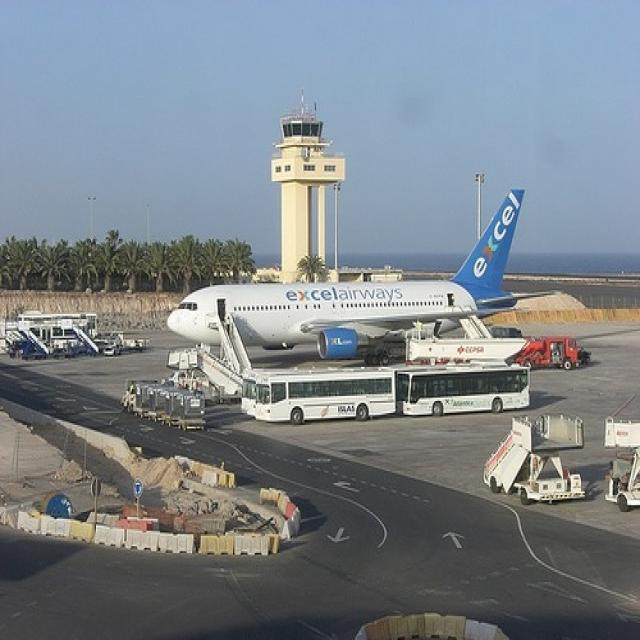aeroplane: (166, 191, 557, 360)
bus: (256, 368, 398, 428), (395, 363, 532, 417), (242, 370, 257, 418)
